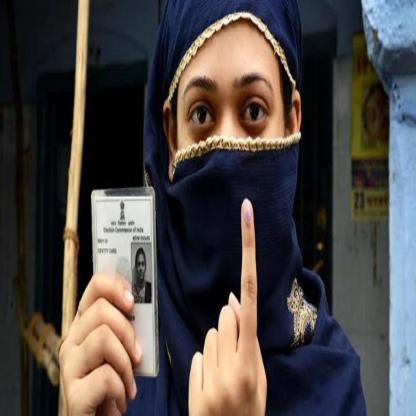face: (176, 25, 286, 279), (368, 90, 392, 140), (138, 253, 145, 283)
